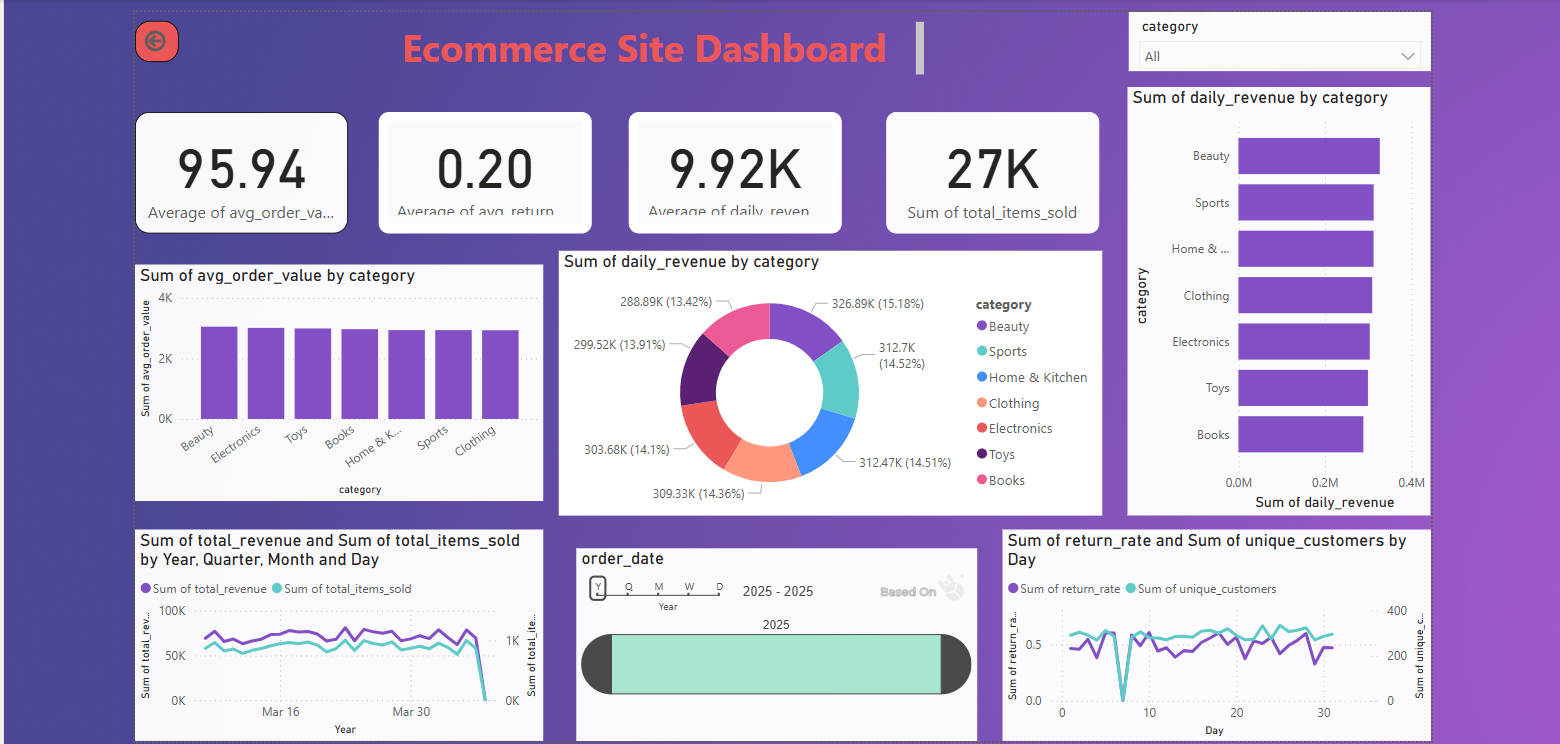

The dashboard page shown, as its layout file describes it:
{"tool":"powerbi","page":{"name":"Page 1","canvas":[1280,720],"ordinal":0},"visuals":[{"type":"slicer","fields":{"Values":["category_kpis_table.category"]},"box":[981.4,0,298.6,58.4],"z":2000},{"type":"clusteredColumnChart","fields":{"Category":["category_kpis_table.category"],"Y":["Sum(category_kpis_table.avg_order_value)"]},"box":[0,249.5,403.5,233.6],"z":3000},{"type":"card","fields":{"Values":["Avg(category_kpis_table.avg_order_value)"]},"box":[0,99,210,120],"z":4000},{"type":"card","fields":{"Values":["Avg(category_kpis_table.avg_return_rate)"]},"box":[240.9,99,210.3,119.8],"z":5000},{"type":"card","fields":{"Values":["Avg(category_kpis_table.daily_revenue)"]},"box":[487.9,99,210,120],"z":6000},{"type":"actionButton","box":[0,8.6,43.2,40.7],"z":7000},{"type":"card","fields":{"Values":["Sum(order_kpis_table.total_items_sold)"]},"box":[742.3,99,210,120],"z":8000},{"type":"textbox","box":[229.6,4.9,554.3,69.1],"z":10000},{"type":"lineChart","fields":{"Category":["order_kpis_table.order_date.Variation.Date Hierarchy.Year","order_kpis_table.order_date.Variation.Date Hierarchy.Quarter","order_kpis_table.order_date.Variation.Date Hierarchy.Month","order_kpis_table.order_date.Variation.Date Hierarchy.Day"],"Y":["Sum(order_kpis_table.total_revenue)"],"Y2":["Sum(order_kpis_table.total_items_sold)"]},"box":[0,511.3,403,208.7],"z":10001},{"type":"donutChart","fields":{"Y":["Sum(category_kpis_table.daily_revenue)"],"Category":["category_kpis_table.category"]},"box":[418.2,236,536.8,261.7],"z":10002},{"type":"lineChart","fields":{"Category":["order_kpis_table.order_date.Variation.Date Hierarchy.Day"],"Y":["Sum(order_kpis_table.return_rate)"],"Y2":["Sum(order_kpis_table.unique_customers)"]},"box":[857.2,511.1,423.1,209.1],"z":10003},{"type":"BasedOnTimelineSlicer","fields":{"Time":["order_kpis_table.order_date"]},"box":[435.2,529.3,395.8,190.7],"z":10004},{"type":"barChart","fields":{"Category":["category_kpis_table.category"],"Y":["Sum(category_kpis_table.daily_revenue)"]},"box":[980.7,74.6,299.6,423.1],"z":10005}]}

Visuals, with their boxes in screenshot pixels (x1, y1, x2, y2):
slicer - category_kpis_table.category: rect(1125, 4, 1429, 64)
clusteredColumnChart - category_kpis_table.category x Sum(category_kpis_table.avg_order_value): rect(126, 258, 537, 496)
card - Avg(category_kpis_table.avg_order_value): rect(126, 105, 340, 227)
card - Avg(category_kpis_table.avg_return_rate): rect(371, 105, 585, 227)
card - Avg(category_kpis_table.daily_revenue): rect(623, 105, 837, 227)
actionButton: rect(126, 13, 170, 54)
card - Sum(order_kpis_table.total_items_sold): rect(882, 105, 1096, 227)
textbox: rect(360, 9, 924, 79)
lineChart - order_kpis_table.order_date.Variation.Date Hierarchy.Year x order_kpis_table.order_date.Variation.Date Hierarchy.Quarter: rect(126, 525, 536, 737)
donutChart - Sum(category_kpis_table.daily_revenue) x category_kpis_table.category: rect(552, 244, 1098, 511)
lineChart - order_kpis_table.order_date.Variation.Date Hierarchy.Day x Sum(order_kpis_table.return_rate): rect(999, 525, 1430, 737)
BasedOnTimelineSlicer - order_kpis_table.order_date: rect(569, 543, 972, 737)
barChart - category_kpis_table.category x Sum(category_kpis_table.daily_revenue): rect(1125, 80, 1430, 511)
